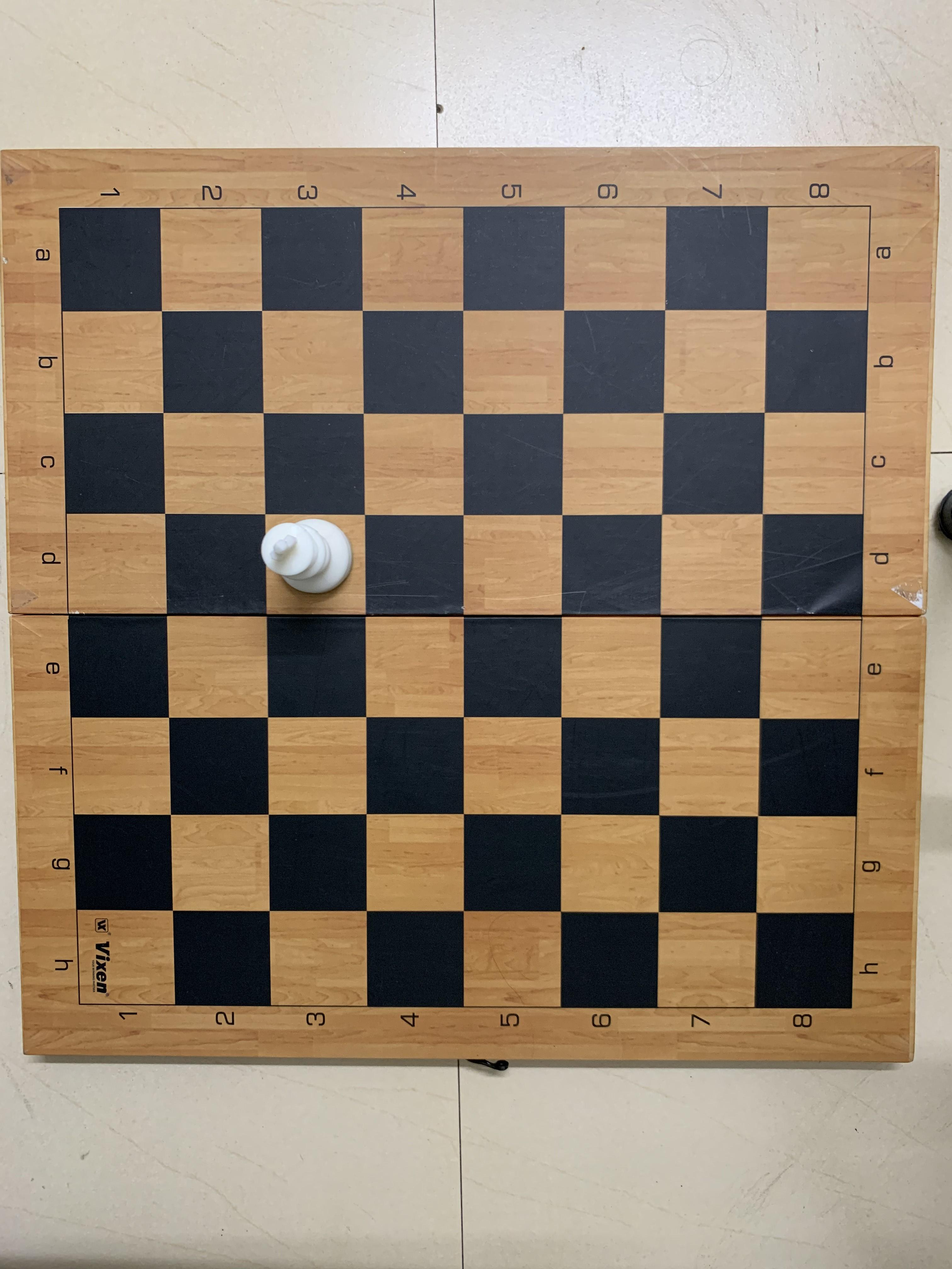white_king: (251, 515, 366, 615)
